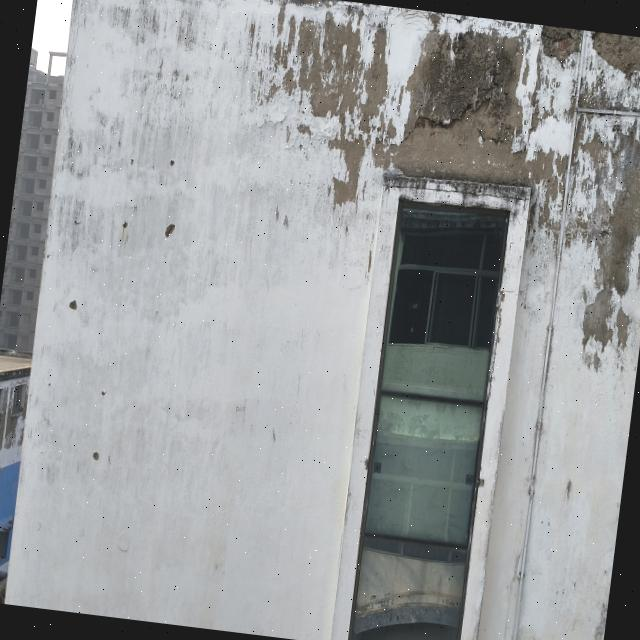Crack: (380, 180, 526, 201)
Paint Peeling: (269, 0, 388, 204), (525, 151, 567, 254)
Scaling: (393, 26, 524, 181), (564, 112, 640, 369), (593, 31, 640, 75), (541, 25, 580, 64)
